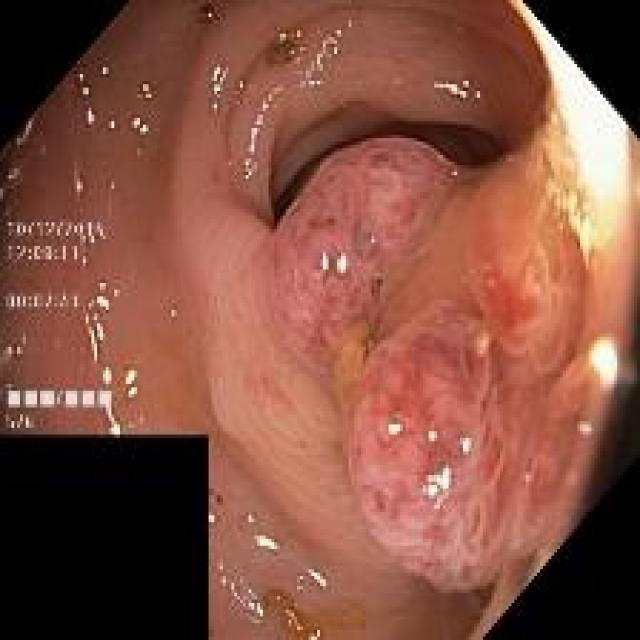Polyps: (349, 307, 504, 594), (274, 140, 451, 371), (471, 156, 586, 399), (450, 430, 460, 435)
